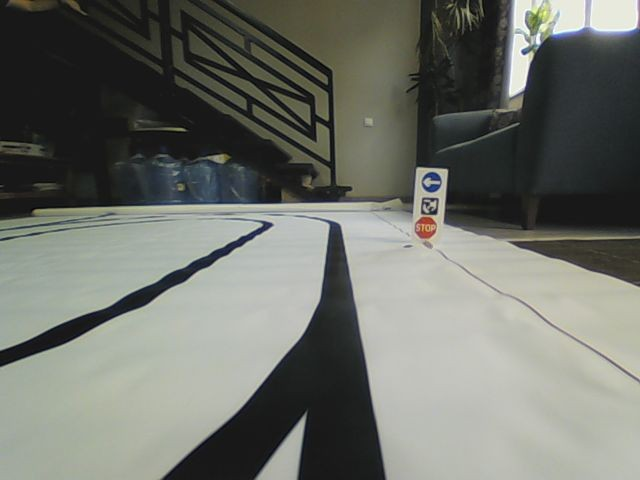Stop: (413, 216, 437, 239)
